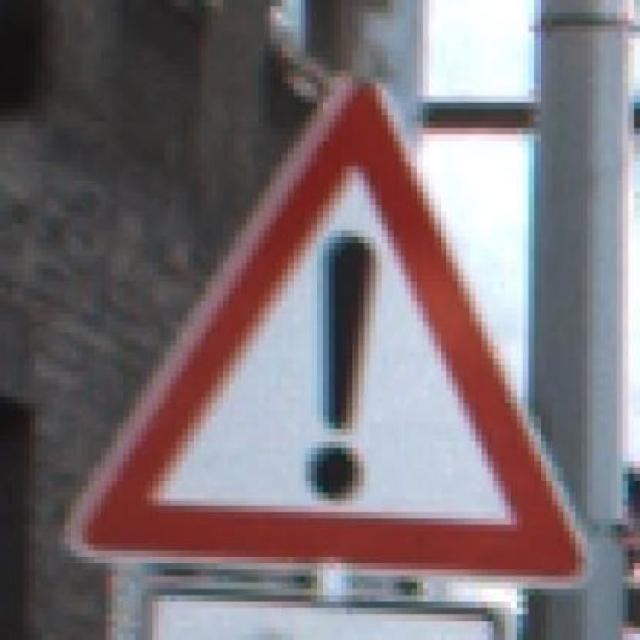Attention Please-: (44, 60, 608, 592)
